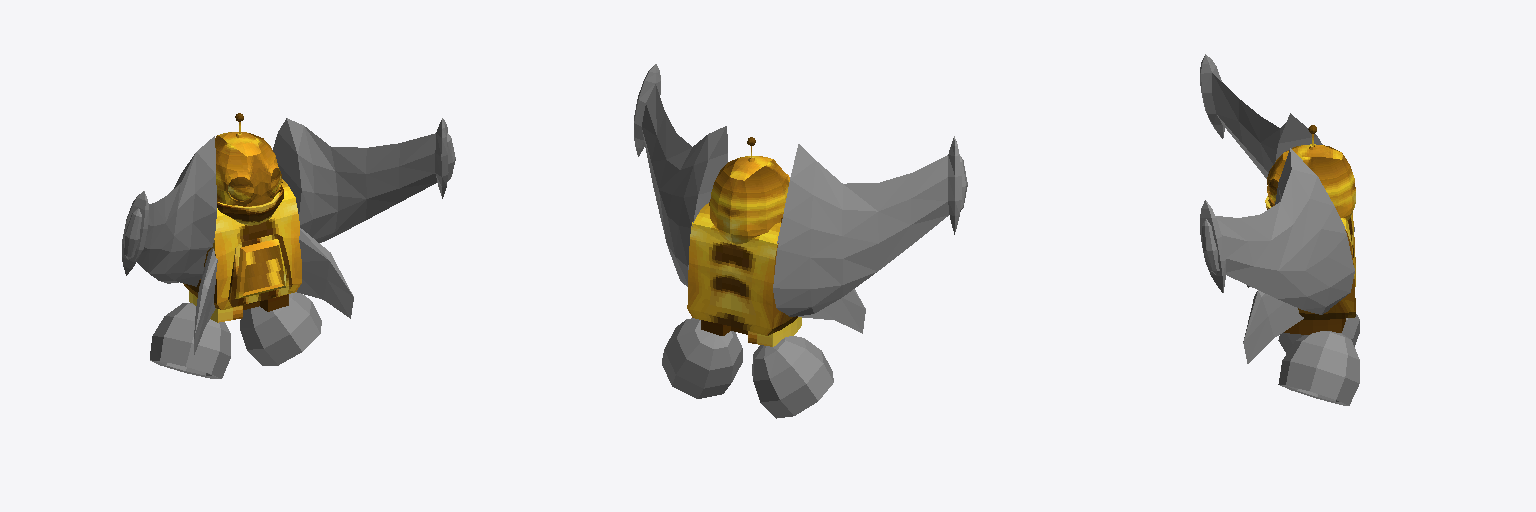
The picture shows the model from 3 angles: view 1: azimuth 30°, elevation 25°; view 2: azimuth 150°, elevation 25°; view 3: azimuth 270°, elevation 25°; orthographic projection.
Visible parts, largest first — view 1: Mesh1, Mesh0; view 2: Mesh1, Mesh0; view 3: Mesh1, Mesh0.
Part boxes in pixels (x1,y1,x2,y2): Mesh1: (122,118,455,378); Mesh0: (183,113,301,322); Mesh1: (634,64,967,418); Mesh0: (687,137,801,346); Mesh1: (1200,54,1359,405); Mesh0: (1265,125,1355,334).
Bounding box in the file's own units: 31.44 × 23.83 × 13.24.
2 materials, 1 textured.